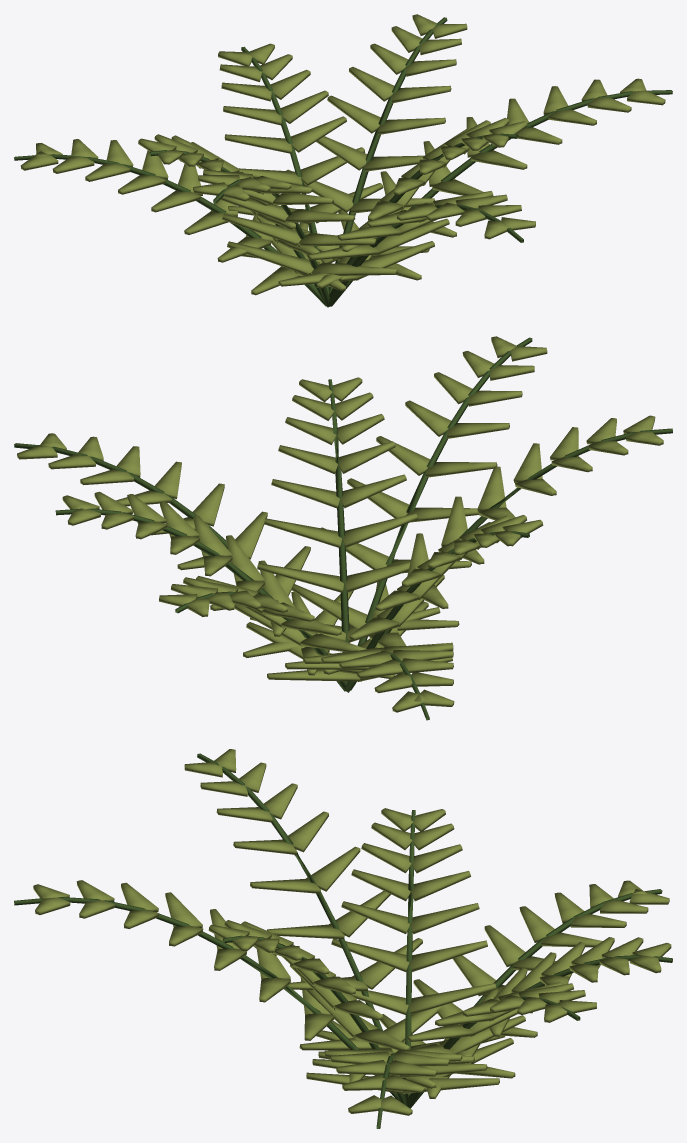
The model's file is flora_fern.glb.
3 renders of one model, top to bottom at view 1: azimuth 30°, elevation 25°; view 2: azimuth 150°, elevation 25°; view 3: azimuth 270°, elevation 25°, orthographic. The views are drawn at different scales.
Parts seen in each view (by area): view 1: fern, stem; view 2: fern, stem; view 3: fern, stem.
Boxes of the visible parts, x1=… form: fern: x1=20, y1=14, x2=665, y2=295; stem: x1=14, y1=17, x2=672, y2=307; fern: x1=17, y1=336, x2=663, y2=712; stem: x1=14, y1=337, x2=672, y2=720; fern: x1=33, y1=749, x2=671, y2=1115; stem: x1=14, y1=753, x2=672, y2=1128.
Size of the model in its own units: 1.28 by 0.5164 by 1.25.
